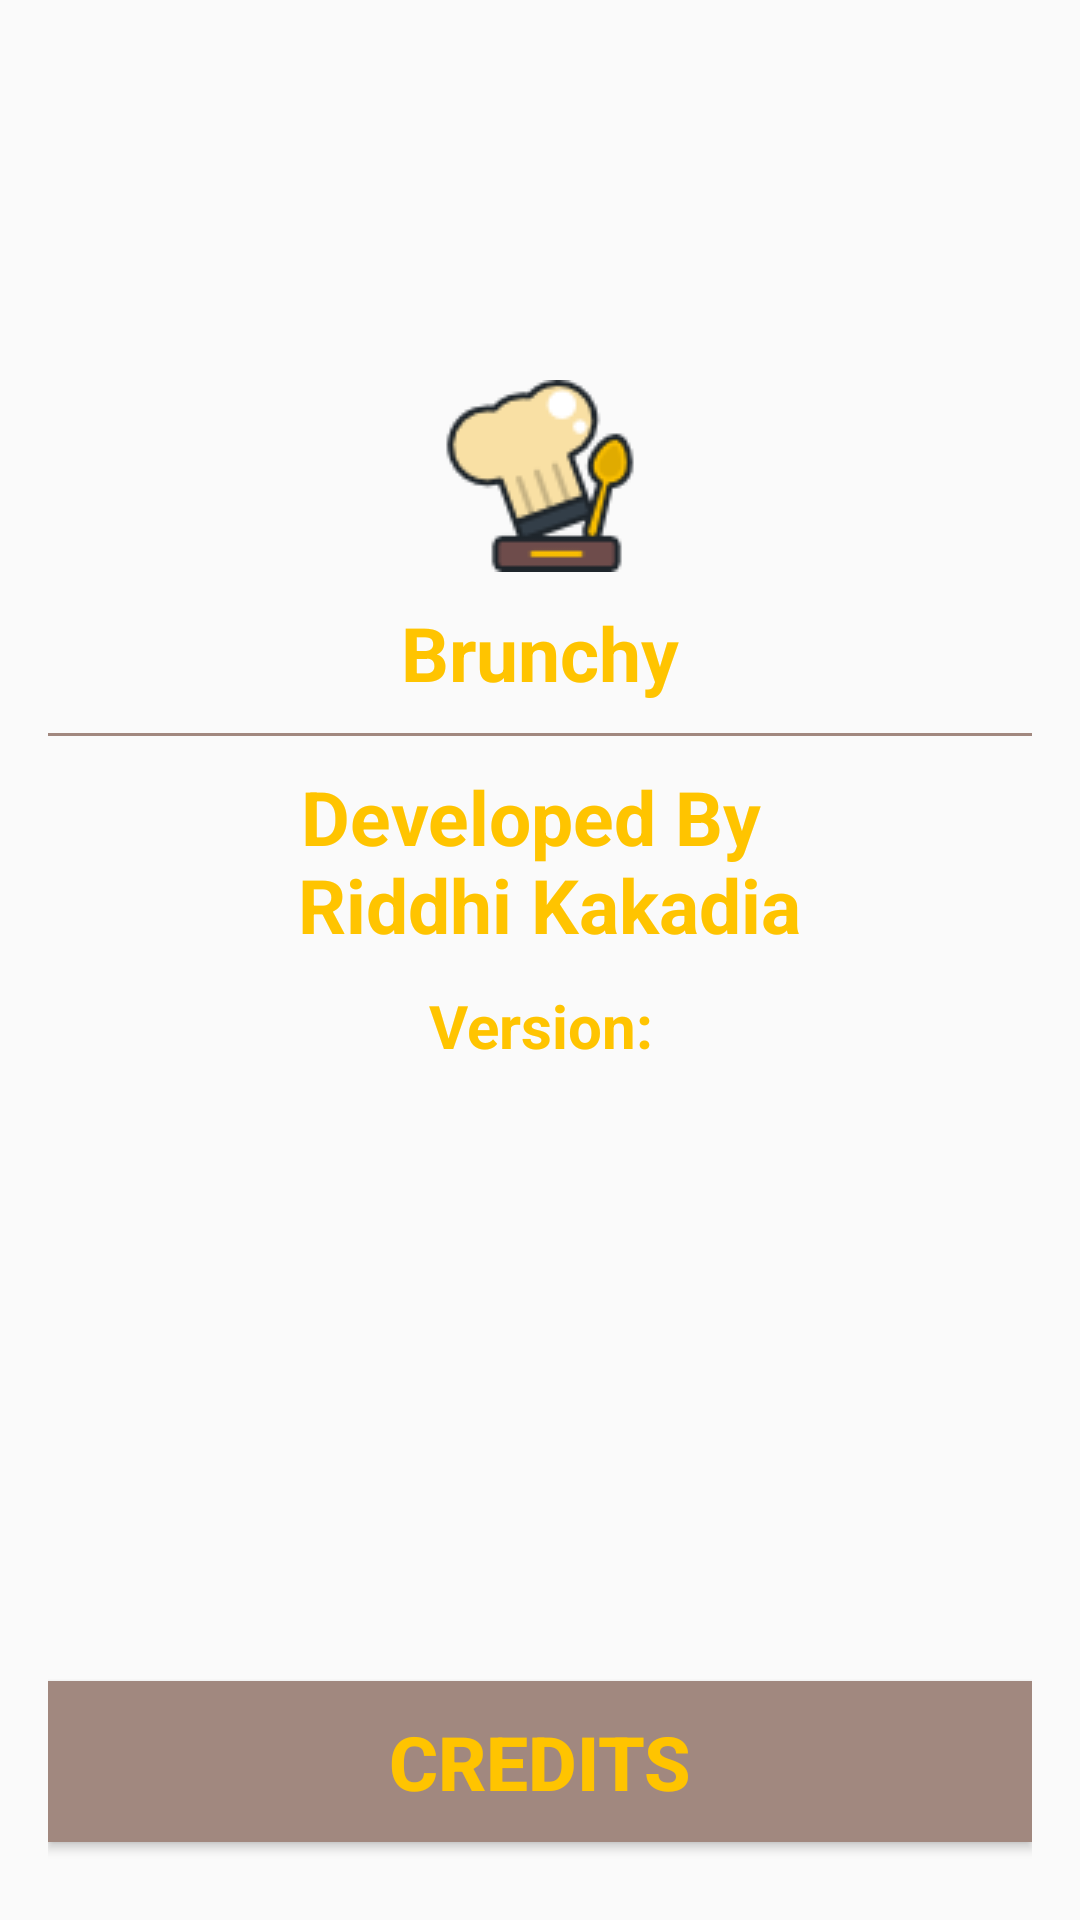

Icons on this 1080w x 1920h Android screen, each with the point to tap as [x,y]:
chef: [540,476]
